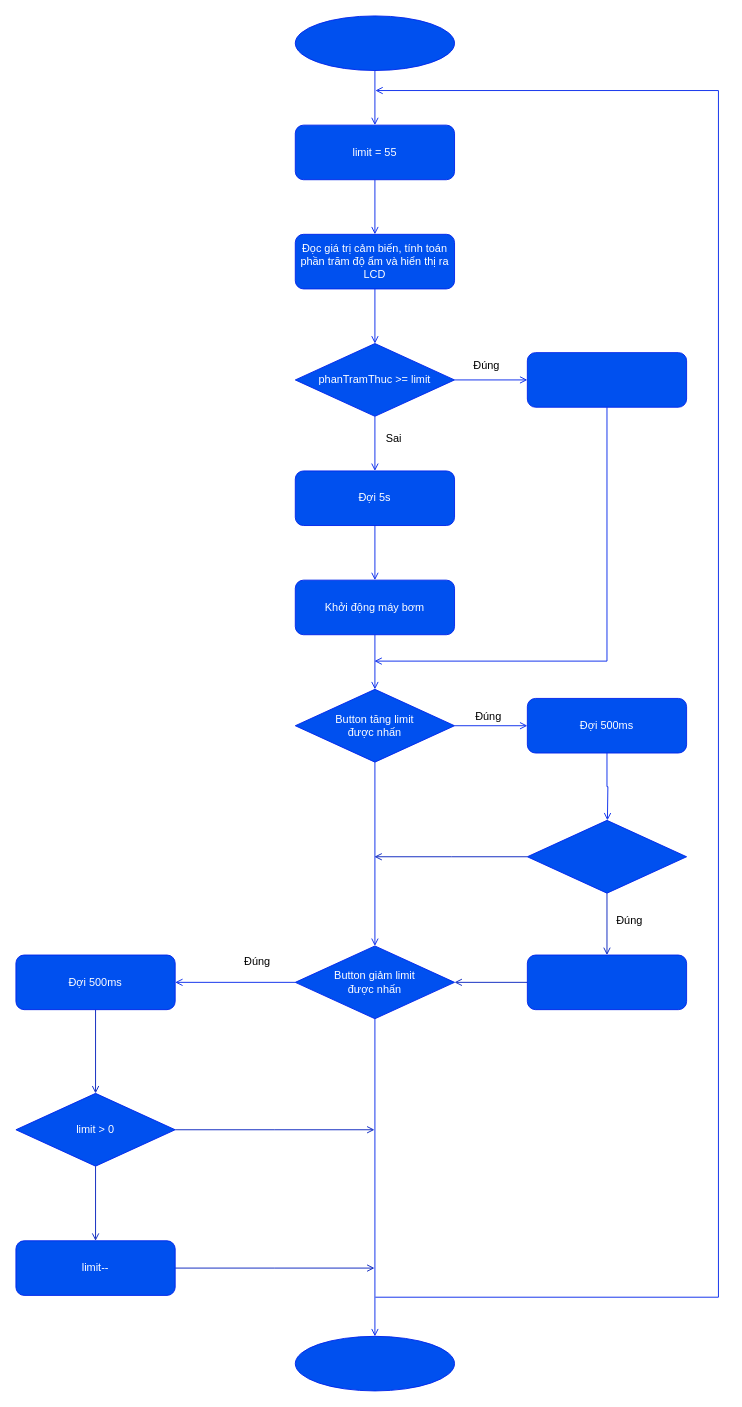
Image size: 742x1407. Some labels were removed from this diagram. The shapes that lost their labels are listed below. From the top down, each one's centre as x and y in pixels, then its label:
At (374,43): "Start".
At (606,379): "Tắt máy bơm".
At (606,856): "limit < 100".
At (606,982): "limit++".
At (374,1363): "End".
